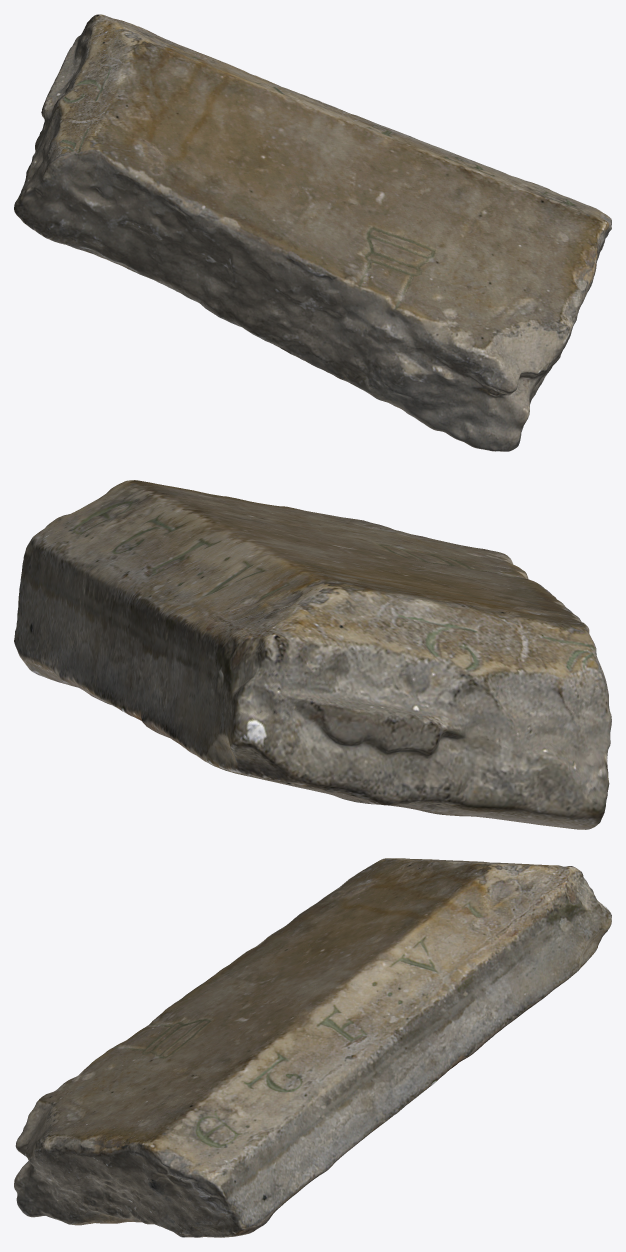
Rendered from Tombstone2.glb.
3 renders of one model, top to bottom at view 1: azimuth 30°, elevation 25°; view 2: azimuth 150°, elevation 25°; view 3: azimuth 270°, elevation 25°, orthographic. The views are drawn at different scales.
Parts seen in each view (by area): view 1: object; view 2: object; view 3: object.
Boxes of the visible parts, x1,y1,x2,y2 form: object: [14, 14, 611, 451]; object: [14, 480, 611, 829]; object: [14, 858, 611, 1237].
Bounding box in the file's own units: 4.02 × 2.24 × 4.34.
Materials: 1 (1 with a texture image).
